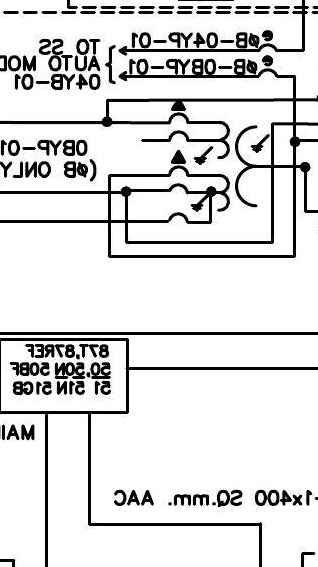115_vt_1p: (167, 99, 271, 213)
